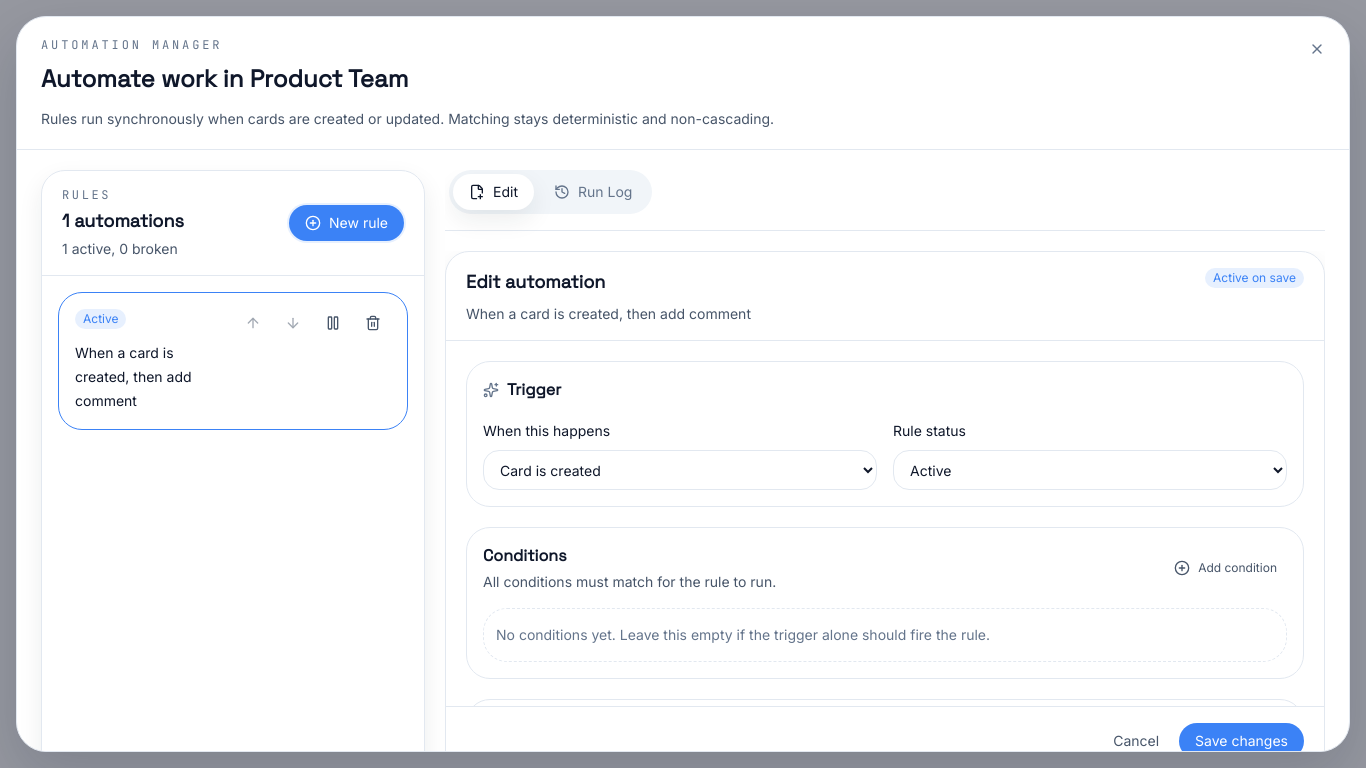
AutomationManagerDialog › returns to the editor tab when creating a new rule or selecting a rule
Click the tab "Run Log" at (593, 192), box [538,174,648,210]
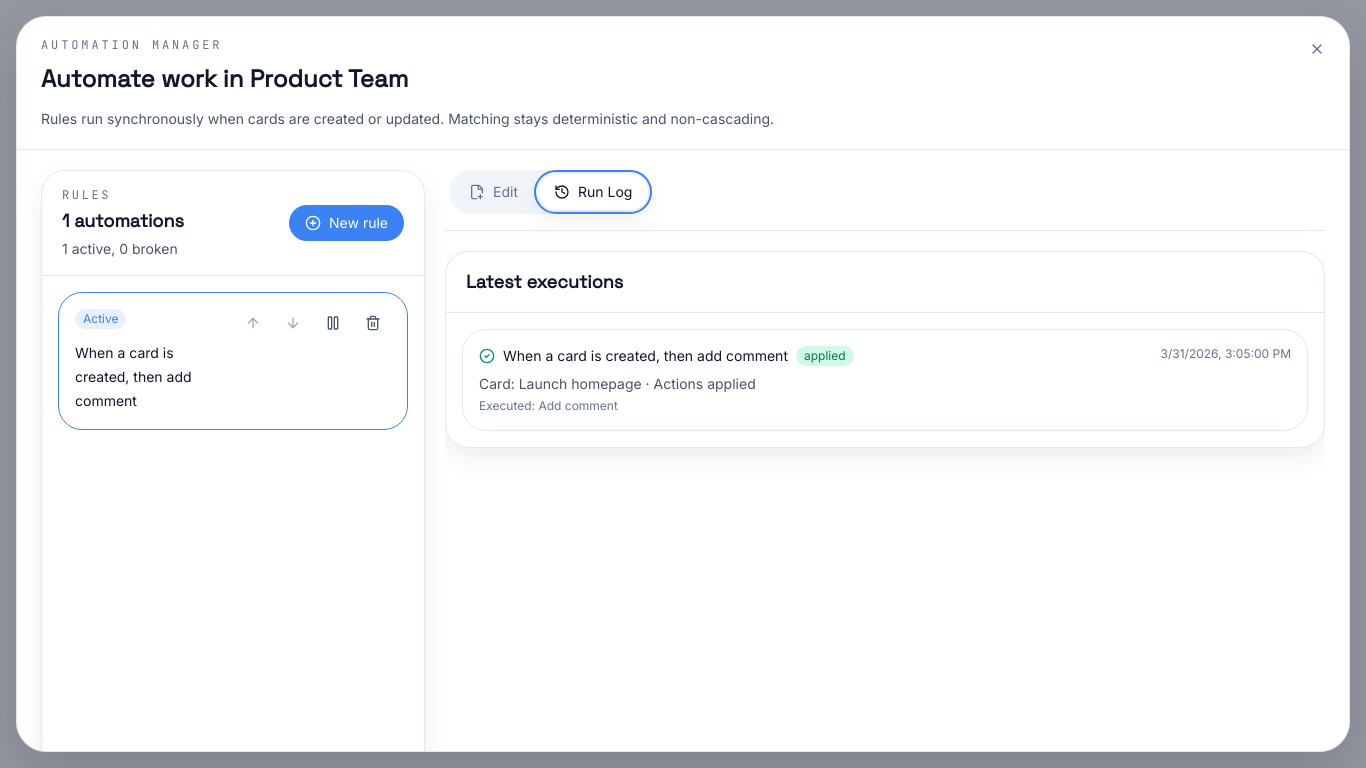
Click the button "New rule" at (346, 223), box [289,205,404,241]
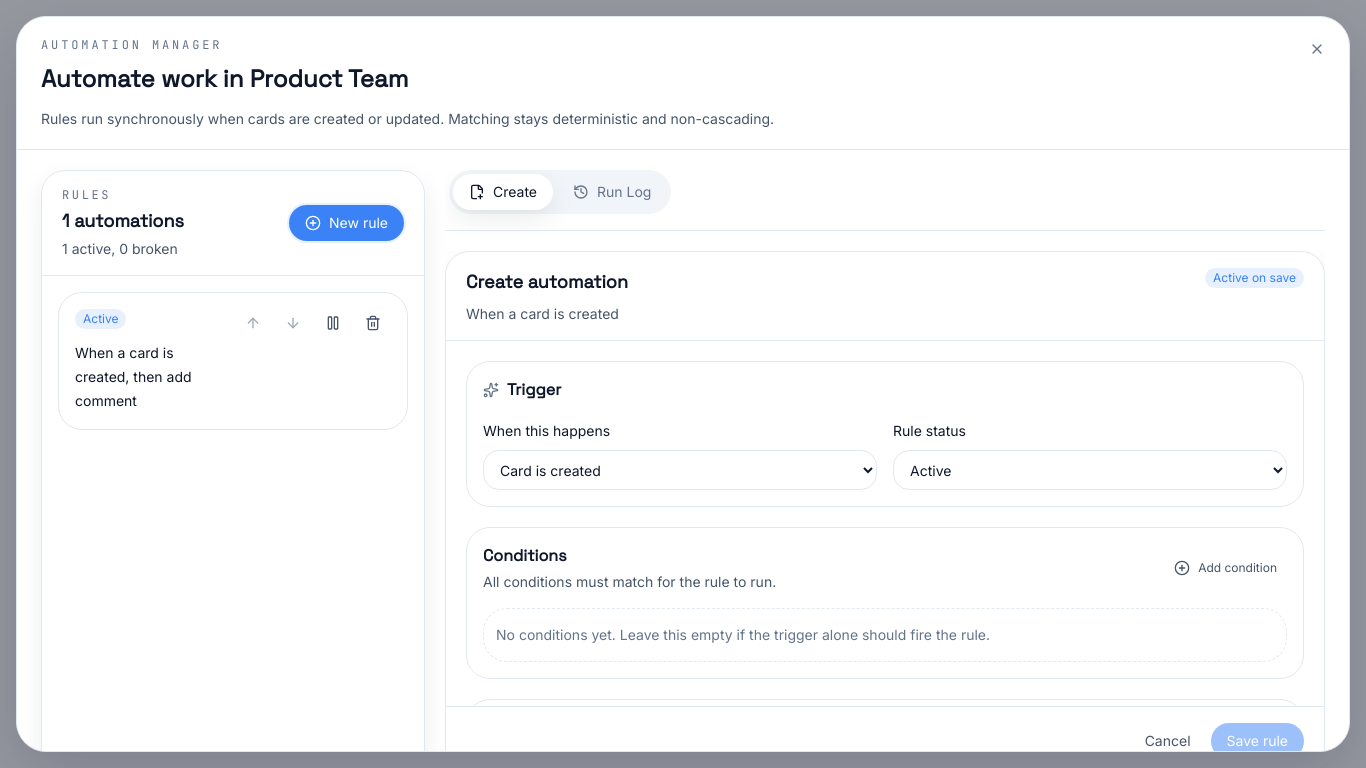
Expected: the heading "Create automation" is shown, [466,268,628,296]
Expected: the heading "Latest executions" is gone
Click the tab "Run Log" at (612, 192), box [557,174,667,210]
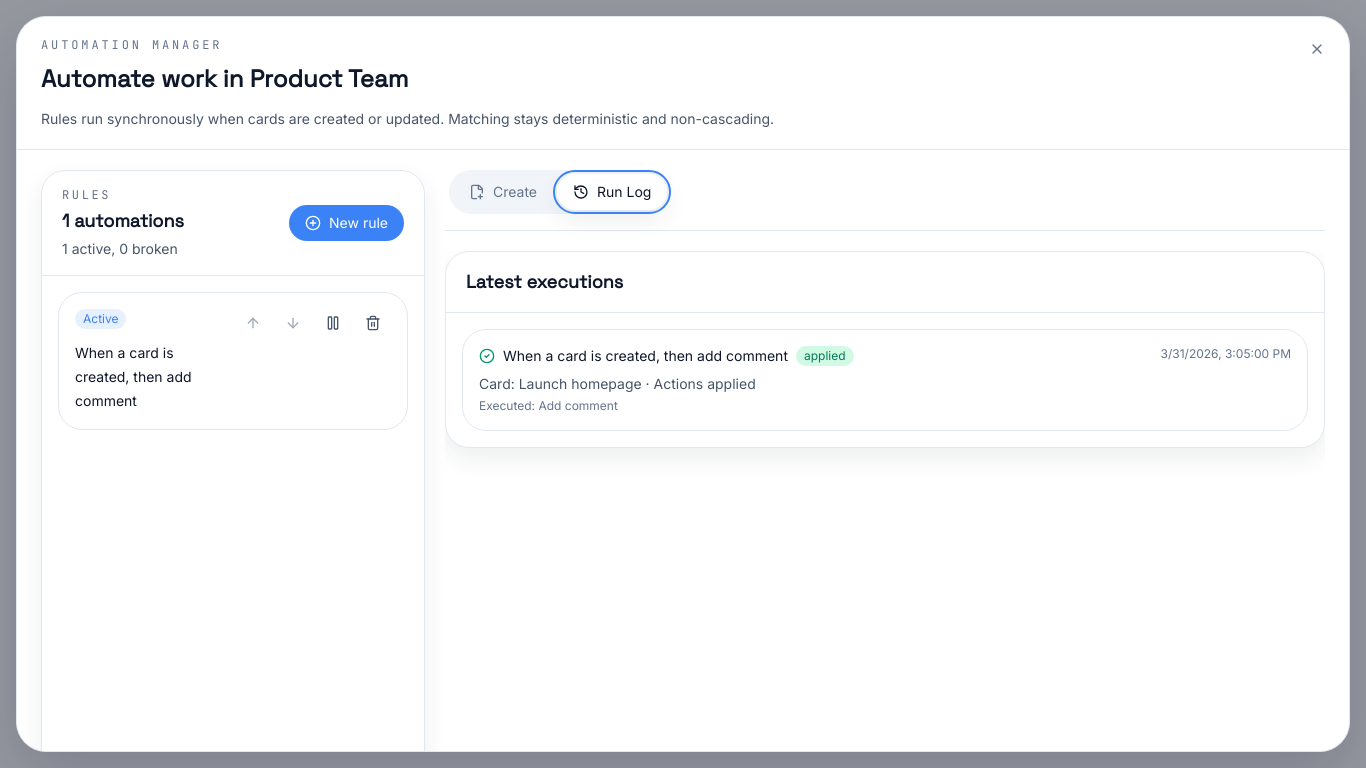
Click the button "Active When a card is created, then add comment" at (101, 319), box [58,292,408,430]
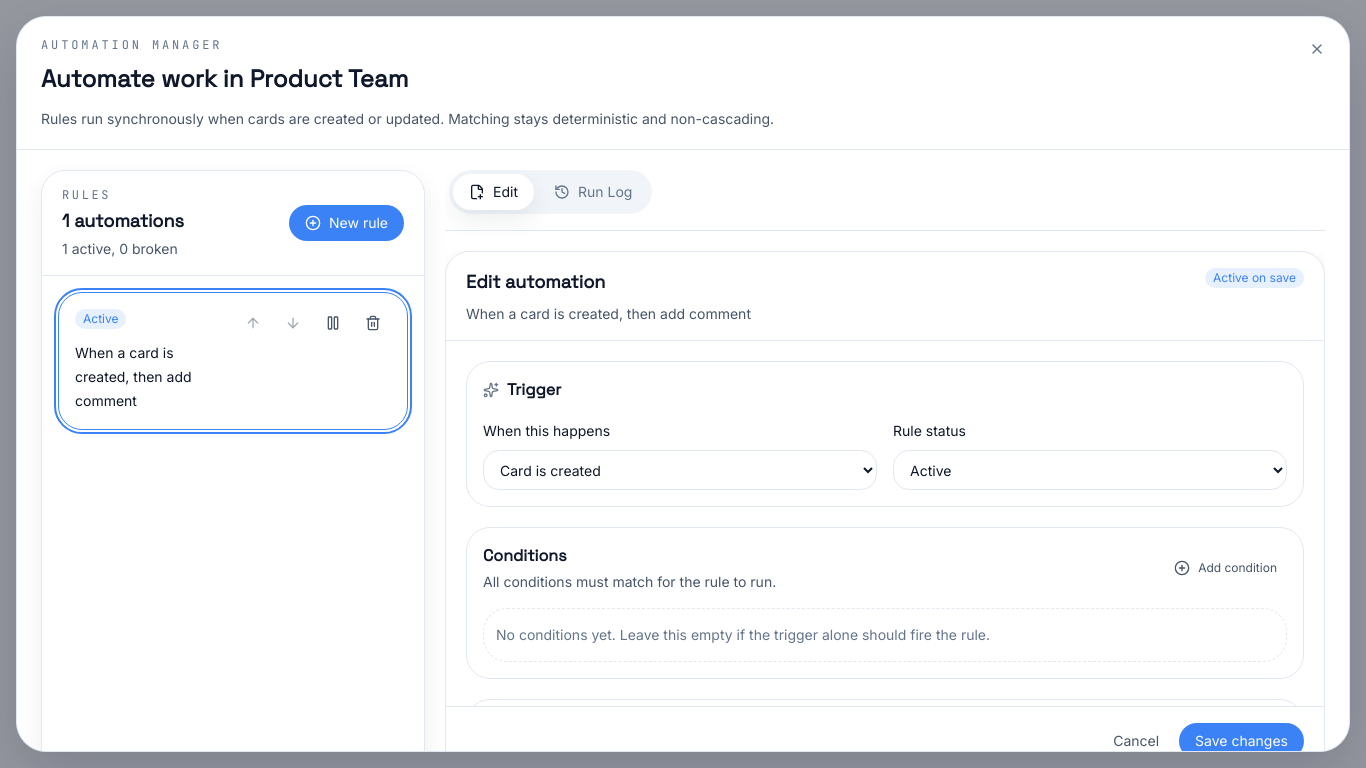
Expected: the heading "Edit automation" is shown, [466,270,605,293]
Expected: the heading "Latest executions" is gone
